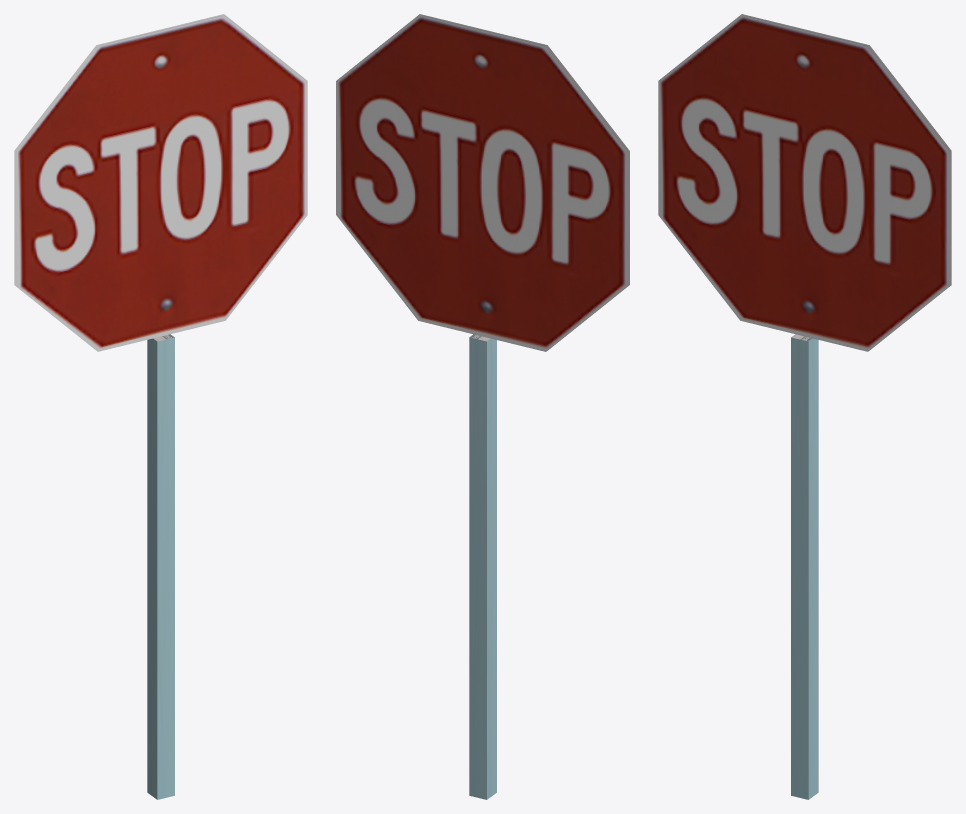
The model's file is sign01.FBX.
3 views of the same model, side by side, from view 1: azimuth 30°, elevation 25°; view 2: azimuth 150°, elevation 25°; view 3: azimuth 330°, elevation 25° (orthographic).
Parts seen in each view (by area): view 1: sign01-stop; view 2: sign01-stop; view 3: sign01-stop.
Boxes of the visible parts, bbox=[...] form: sign01-stop: bbox=[14, 14, 307, 799]; sign01-stop: bbox=[336, 14, 629, 799]; sign01-stop: bbox=[658, 14, 951, 799].
Size of what is drawn, in the model's own units: 1 by 0.06 by 2.5.
